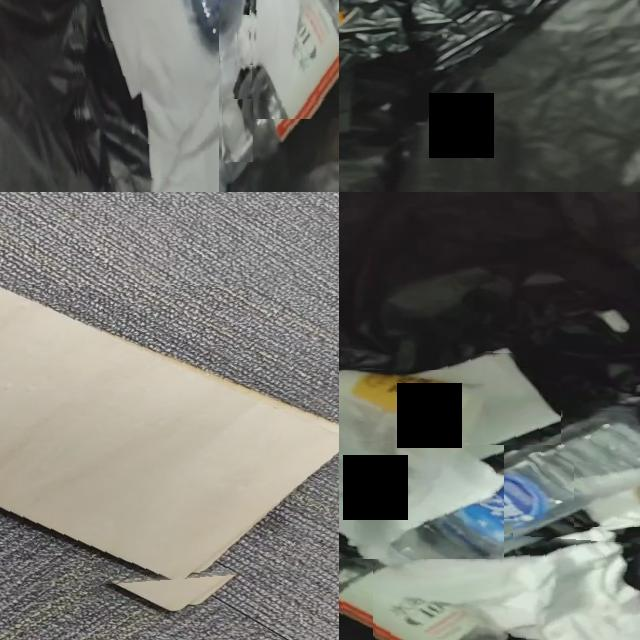bottle: (374, 410, 640, 564), (216, 0, 339, 192), (339, 549, 513, 640)
carton: (0, 291, 339, 587)
dixie_cup: (339, 370, 486, 440)
paper: (99, 0, 244, 192), (373, 539, 640, 640), (339, 398, 504, 559), (98, 0, 219, 192), (415, 352, 561, 445), (254, 0, 339, 119), (575, 467, 640, 527), (149, 144, 219, 192), (223, 99, 253, 162), (237, 15, 253, 66)
